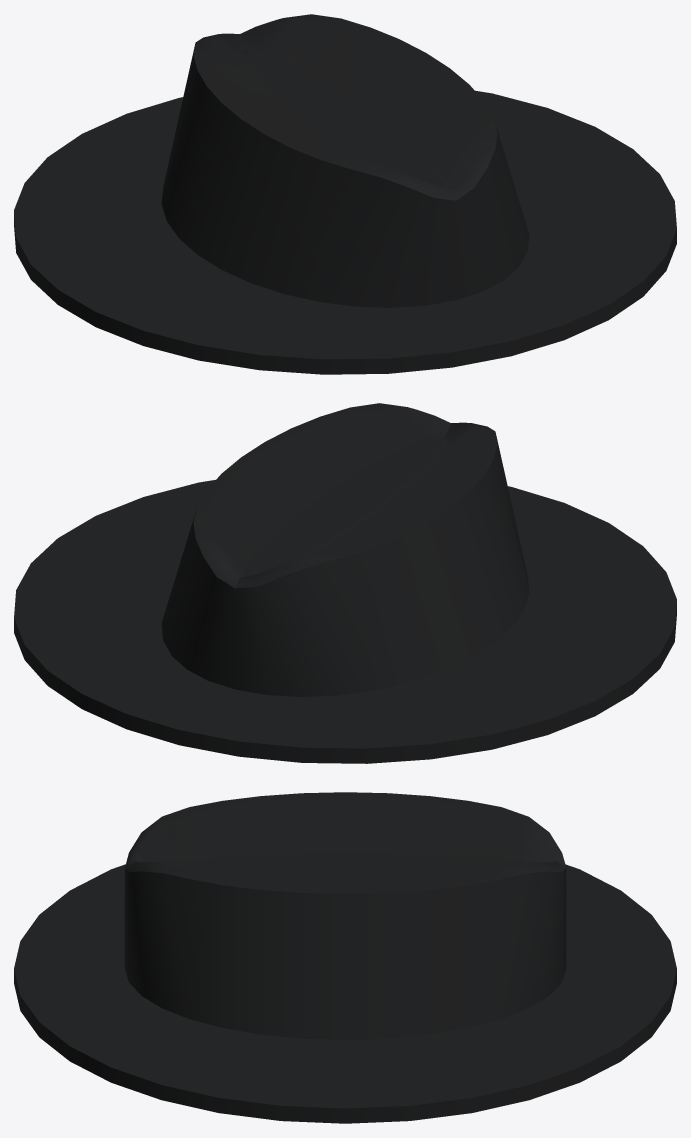
File: Fedora.fbx
The picture shows the model from 3 angles, top to bottom: view 1: azimuth 30°, elevation 25°; view 2: azimuth 150°, elevation 25°; view 3: azimuth 270°, elevation 25°; orthographic projection.
Parts seen in each view (by area): view 1: Cylinder.002; view 2: Cylinder.002; view 3: Cylinder.002.
Part boxes in pixels (left/top/right/bottom): Cylinder.002: left=14, top=14, right=676, bottom=374; Cylinder.002: left=14, top=403, right=676, bottom=763; Cylinder.002: left=14, top=792, right=676, bottom=1123.
Size of the model in its own units: 163 by 38.1 by 163.
